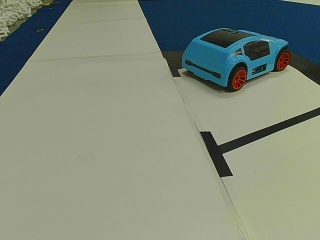car: (182, 28, 289, 92)
